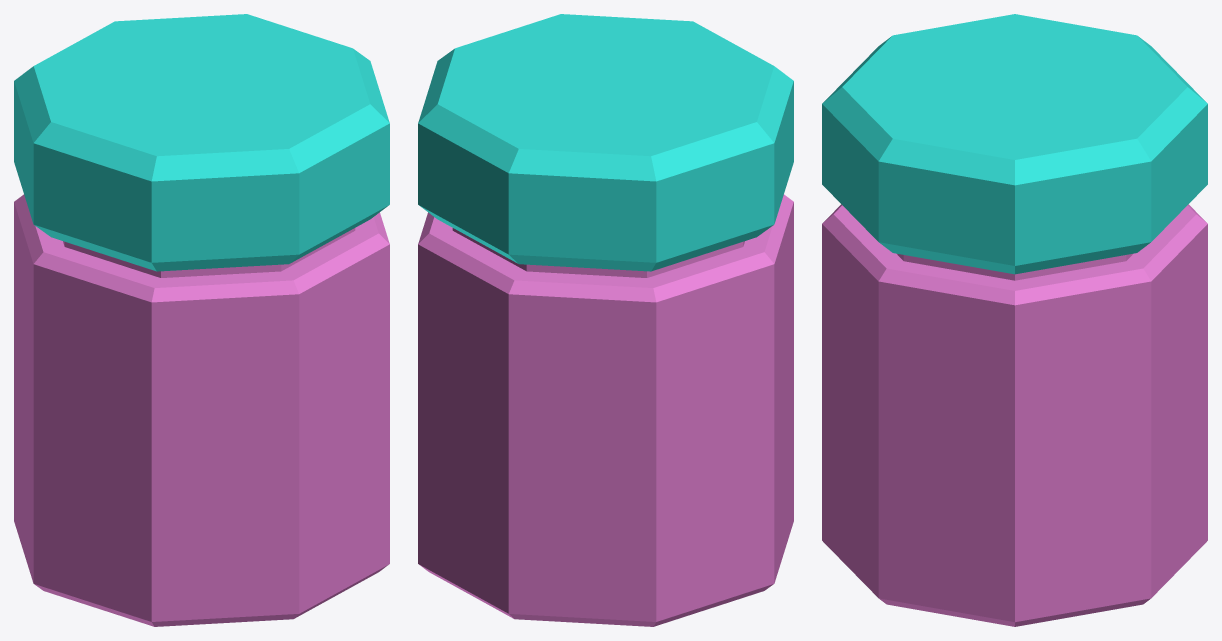
File: Jar_Glass_01.fbx
The picture shows the model from 3 angles, left to right: view 1: azimuth 30°, elevation 25°; view 2: azimuth 150°, elevation 25°; view 3: azimuth 270°, elevation 25°; orthographic projection.
Parts seen in each view (by area): view 1: Jar_Glass_01; view 2: Jar_Glass_01; view 3: Jar_Glass_01.
Part boxes in pixels (x1,y1,x2,y2): Jar_Glass_01: [14, 14, 389, 626]; Jar_Glass_01: [418, 14, 793, 626]; Jar_Glass_01: [822, 14, 1207, 626].
Bounding box in the file's own units: 11.29 × 14.96 × 11.29.
